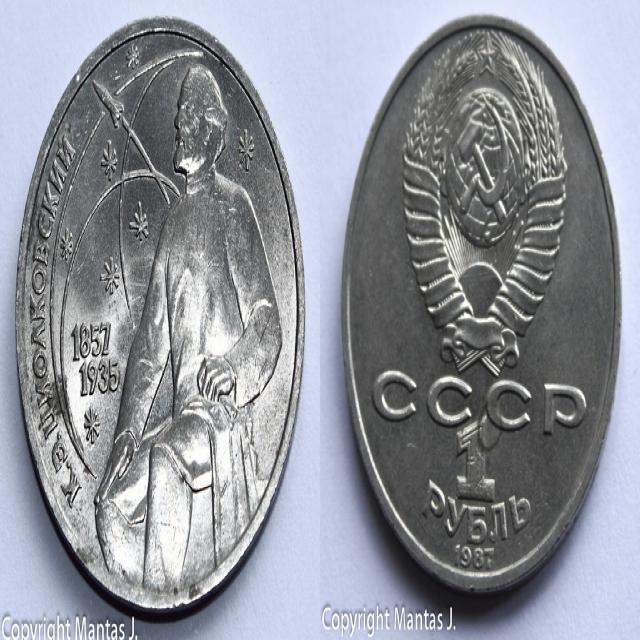Coin: (15, 9, 306, 620), (345, 16, 622, 595)
